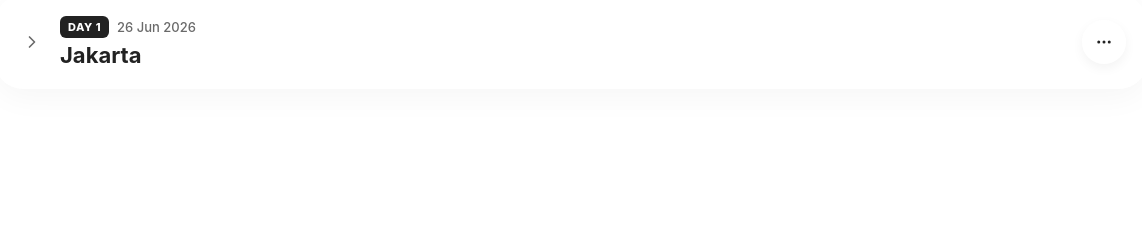
Scenario: DayTimeline › shows past_date day state
Click the button named "toggle collapse": (32, 42) x1=16 y1=26 x2=48 y2=58
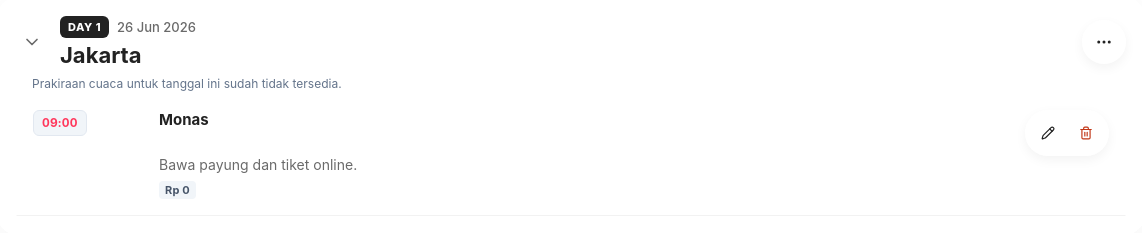
Now the text "Prakiraan cuaca untuk tanggal ini sudah tidak tersedia." is shown, box x1=32 y1=76 x2=342 y2=91
